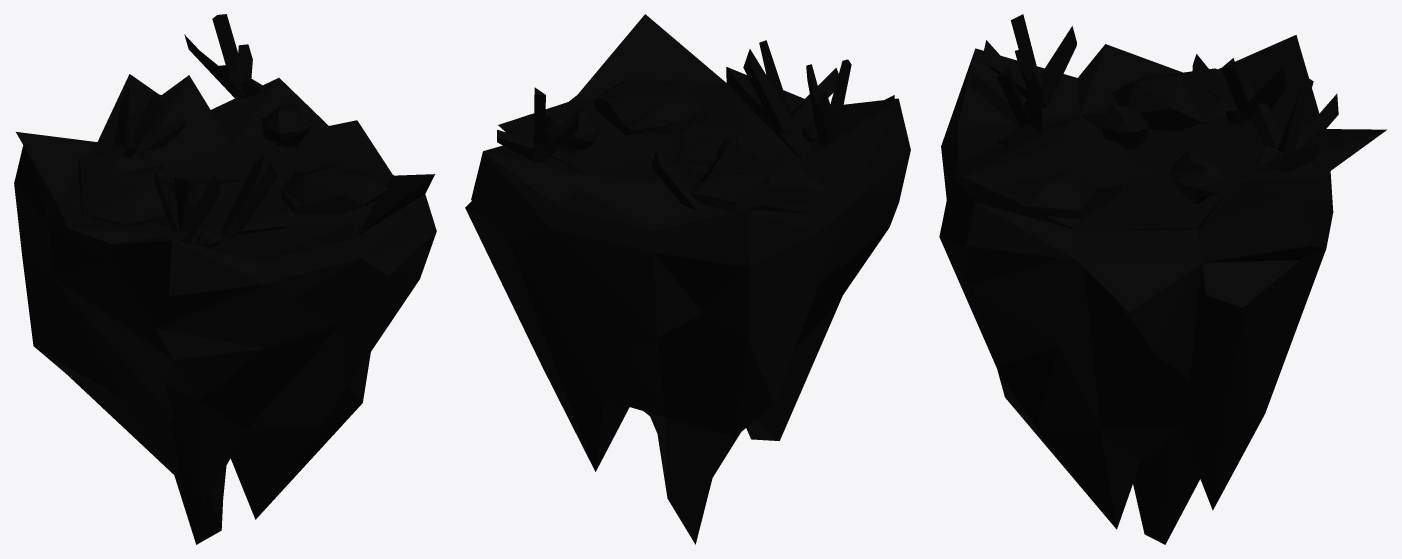
Rendered from plane_swamp_grass03.FBX.
The picture shows the model from 3 angles, left to right: view 1: azimuth 30°, elevation 25°; view 2: azimuth 150°, elevation 25°; view 3: azimuth 270°, elevation 25°; orthographic projection. The views are drawn at different scales.
Parts seen in each view (by area): view 1: plane, Box003, Box012, Box010, Box013, Box004, Box011, Box007; view 2: plane, Box003, Box012, Box004, Box011, Box013, Box010, Box007; view 3: plane, Box012, Box003, Box010, Box004, Box013, Box011, Box007, Box005.
Boxes of the visible parts, bbox=[...] form: plane: bbox=[14, 74, 436, 544]; Box003: bbox=[78, 146, 166, 226]; Box012: bbox=[281, 161, 388, 214]; Box010: bbox=[184, 14, 266, 99]; Box013: bbox=[154, 169, 220, 241]; Box004: bbox=[222, 155, 287, 238]; Box011: bbox=[114, 87, 185, 157]; Box007: bbox=[261, 103, 315, 147]; plane: bbox=[465, 14, 910, 544]; Box003: bbox=[690, 157, 827, 211]; Box012: bbox=[593, 78, 706, 134]; Box004: bbox=[743, 40, 838, 133]; Box011: bbox=[644, 121, 742, 209]; Box013: bbox=[806, 59, 894, 145]; Box010: bbox=[497, 87, 578, 161]; Box007: bbox=[545, 107, 599, 152]; plane: bbox=[939, 35, 1386, 544]; Box012: bbox=[1004, 153, 1124, 219]; Box003: bbox=[1110, 68, 1254, 131]; Box010: bbox=[1253, 77, 1338, 171]; Box004: bbox=[970, 65, 1042, 150]; Box013: bbox=[982, 14, 1076, 108]; Box011: bbox=[1192, 54, 1287, 125]; Box007: bbox=[1168, 148, 1224, 204]; Box005: bbox=[1102, 105, 1148, 150].
Size of the model in its own units: 45.02 by 55.08 by 43.49.
1 material, 1 textured.
